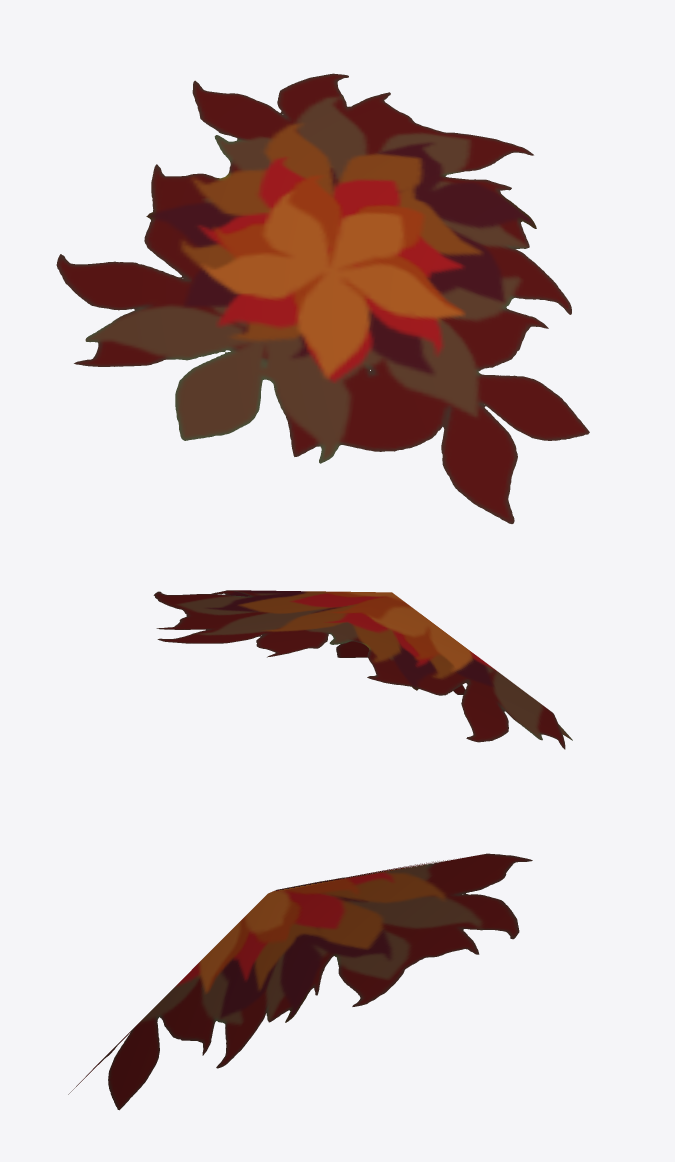
3 views of the same model, one above another, from view 1: azimuth 30°, elevation 25°; view 2: azimuth 150°, elevation 25°; view 3: azimuth 270°, elevation 25° (orthographic). The views are drawn at different scales.
Parts seen in each view (by area): view 1: Plane1021; view 2: Plane1021; view 3: Plane1021.
Boxes of the visible parts, box(x1,y1,x2,y2) form: Plane1021: box(56, 73, 589, 523); Plane1021: box(153, 590, 572, 749); Plane1021: box(68, 853, 532, 1110).
Bounding box in the file's own units: 0.2276 × 0.0937 × 0.2083.
